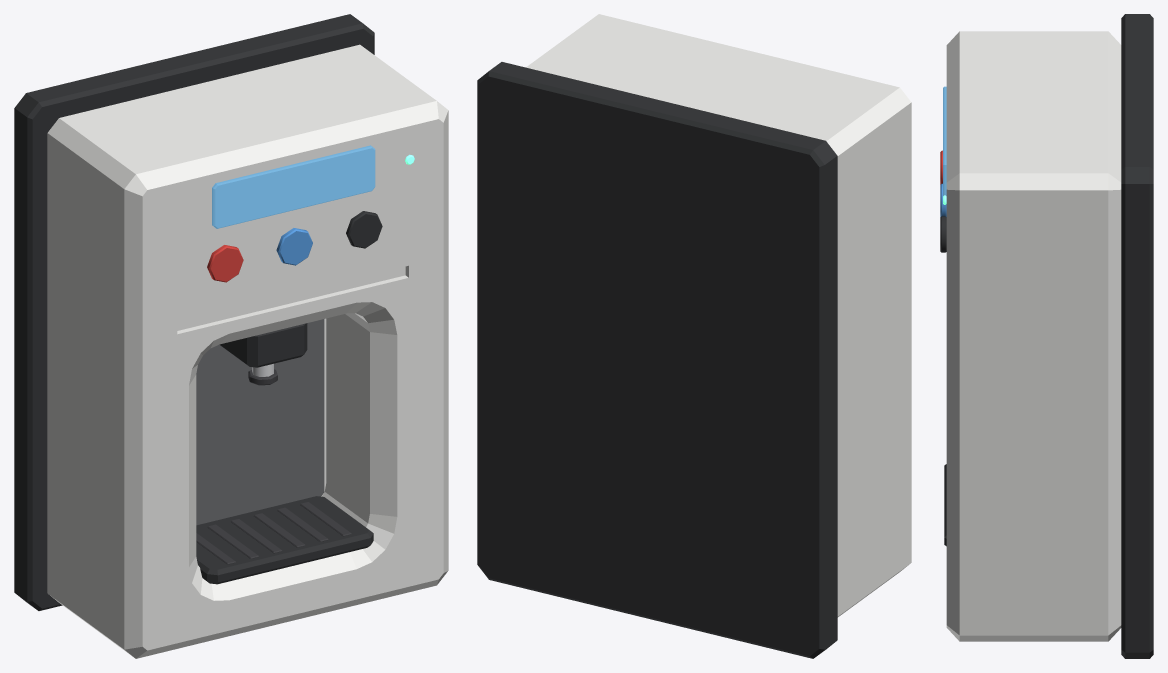
The model's file is eqm12_water_dispenser.glb.
3 renders of one model, left to right at view 1: azimuth 30°, elevation 25°; view 2: azimuth 150°, elevation 25°; view 3: azimuth 270°, elevation 25°, orthographic. The views are drawn at different scales.
Visible parts, largest first — view 1: eqm12_body, eqm12_drip_tray, eqm12_display, eqm12_buttons, eqm12_nozzle; view 2: eqm12_body; view 3: eqm12_body, eqm12_buttons, eqm12_display.
Part boxes in pixels (x1,y1,x2,y2): eqm12_body: [14, 14, 448, 658]; eqm12_drip_tray: [196, 496, 373, 584]; eqm12_display: [212, 145, 414, 228]; eqm12_buttons: [207, 211, 382, 282]; eqm12_nozzle: [219, 323, 307, 385]; eqm12_body: [477, 14, 911, 658]; eqm12_body: [946, 14, 1153, 658]; eqm12_buttons: [940, 150, 946, 252]; eqm12_display: [943, 86, 946, 204].
Bounding box in the file's own units: 0.3 × 0.43 × 0.165.
